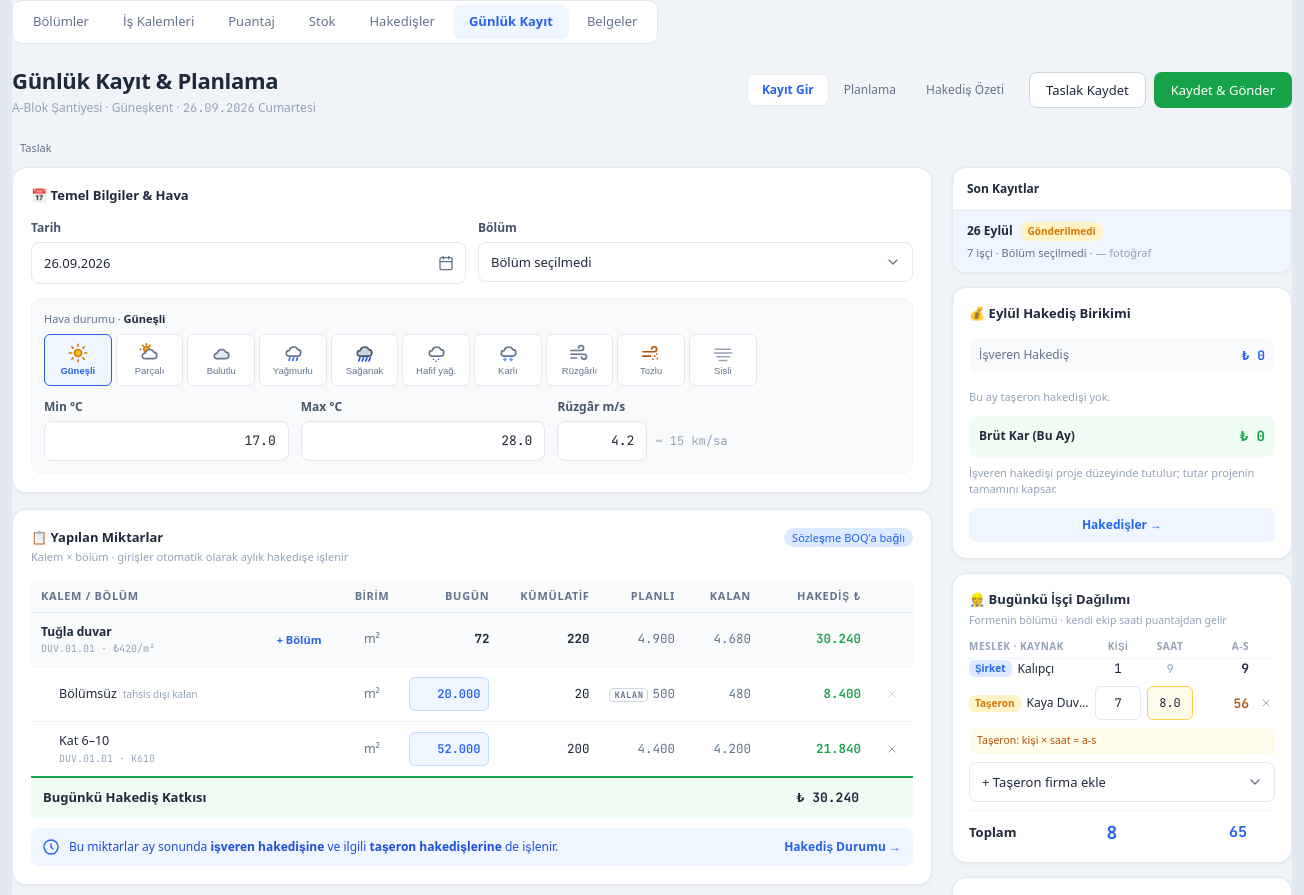
Test case: DiaryEntryScreen · submit 422 reasons[] › backend ön koşul reddi gerekçeleri LİSTE olarak basılır
Click the button "Kaydet & Gönder" at (1223, 90), box top-left (1154, 72), bottom-right (1292, 108)
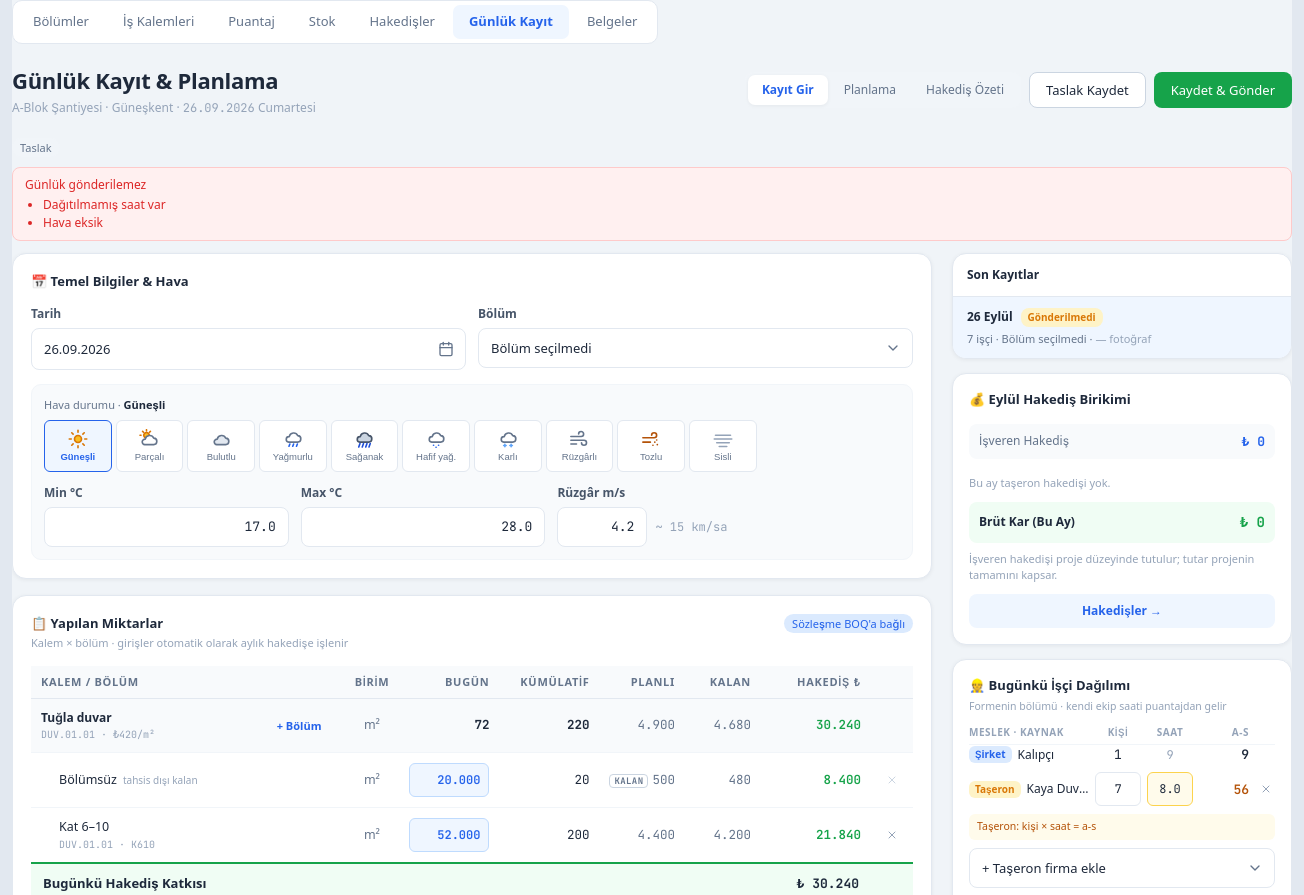
Now the list item "Dağıtılmamış saat var" is shown, box top-left (43, 196), bottom-right (166, 214)
Now the list item "Hava eksik" is shown, box top-left (43, 214), bottom-right (103, 230)
